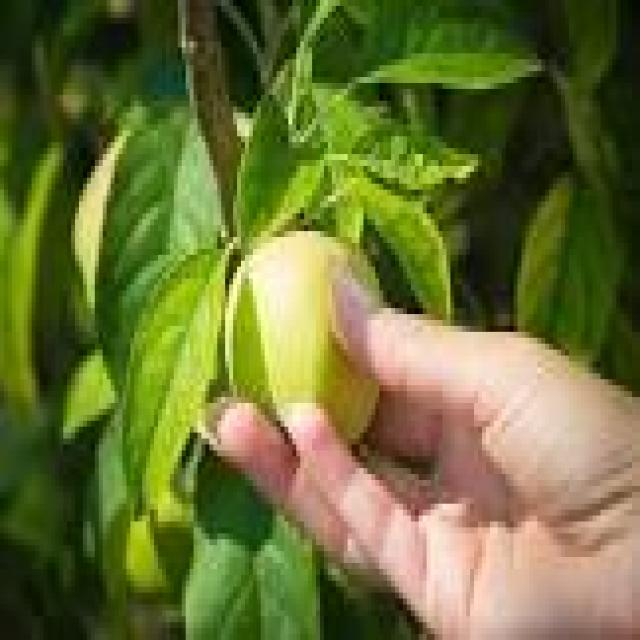apple: (226, 232, 379, 444), (72, 137, 126, 308), (127, 492, 193, 598)
